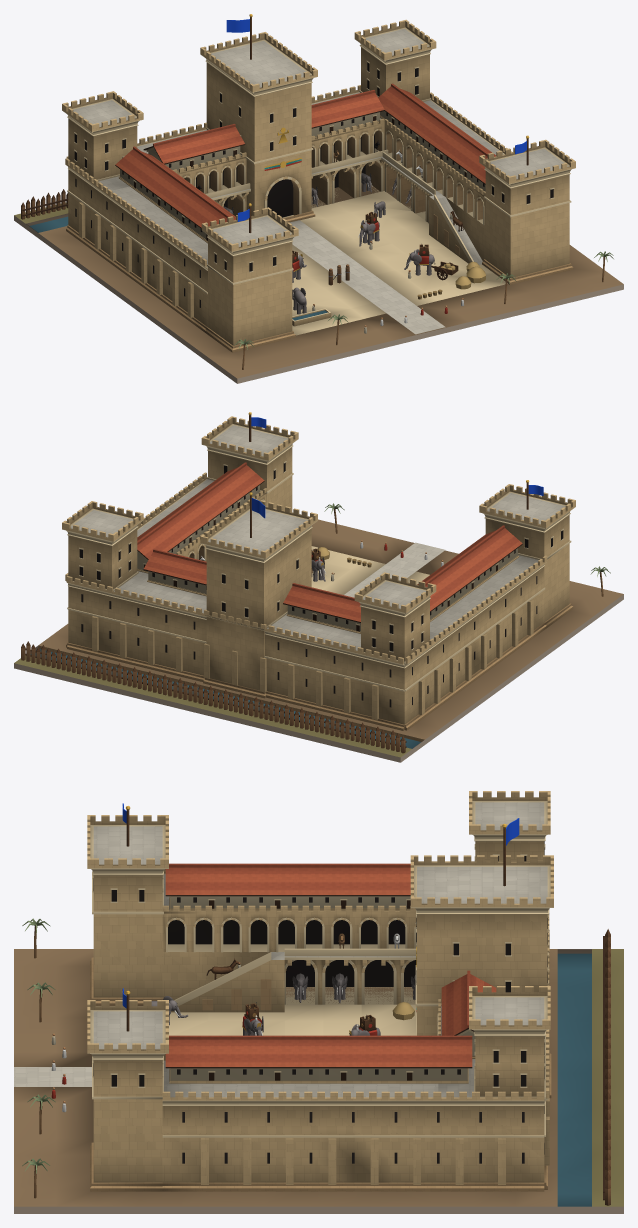
Rendered from lm_filahirlari.glb.
The picture shows the model from 3 angles, top to bottom: view 1: azimuth 30°, elevation 25°; view 2: azimuth 150°, elevation 25°; view 3: azimuth 270°, elevation 25°; orthographic projection. The views are drawn at different scales.
Parts seen in each view (by area): view 1: lm_filahirlari; view 2: lm_filahirlari; view 3: lm_filahirlari.
Boxes of the visible parts, x1,y1,x2,y2 form: lm_filahirlari: [14, 14, 623, 383]; lm_filahirlari: [14, 412, 623, 762]; lm_filahirlari: [14, 791, 623, 1213].
Bounding box in the file's own units: 2.3 × 1.09 × 2.3.
1 material, 1 textured.
